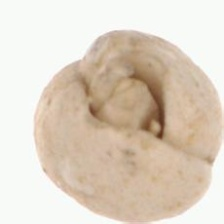L1: (80, 56, 167, 142)
L2: (32, 29, 224, 223)
